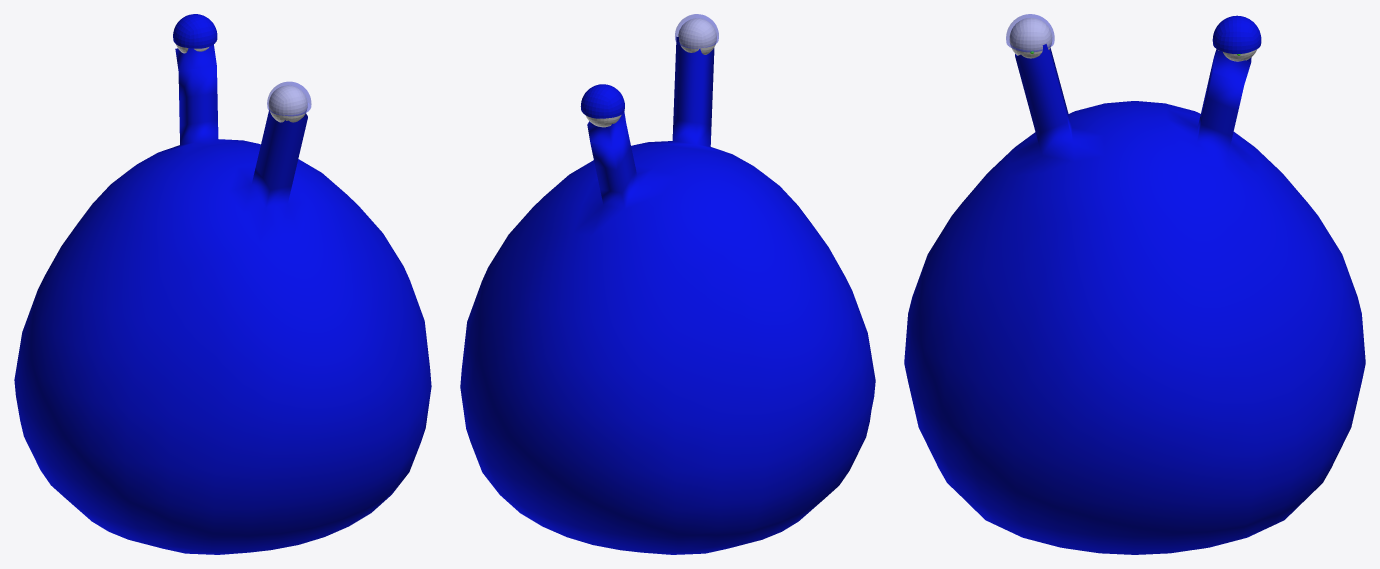
3 views of the same model, side by side, from view 1: azimuth 30°, elevation 25°; view 2: azimuth 150°, elevation 25°; view 3: azimuth 270°, elevation 25° (orthographic). The views are drawn at different scales.
Visible parts, largest first — view 1: Roundcube.001, Roundcube.006, Roundcube.003, Roundcube.004; view 2: Roundcube.001, Roundcube.006, Roundcube.003, Roundcube.004; view 3: Roundcube.001, Roundcube.006, Roundcube.003, Roundcube.004.
Boxes of the visible parts, box(x1,y1,x2,y2) form: Roundcube.001: box(14, 44, 431, 554); Roundcube.006: box(173, 14, 217, 48); Roundcube.003: box(267, 82, 311, 115); Roundcube.004: box(268, 85, 307, 122); Roundcube.001: box(460, 36, 875, 554); Roundcube.006: box(580, 84, 624, 118); Roundcube.003: box(675, 14, 718, 48); Roundcube.004: box(678, 18, 716, 54); Roundcube.001: box(904, 44, 1365, 554); Roundcube.006: box(1212, 15, 1261, 53); Roundcube.003: box(1006, 14, 1054, 51); Roundcube.004: box(1009, 17, 1052, 58).
Bounding box in the file's own units: 1.97 × 2.41 × 1.97.
